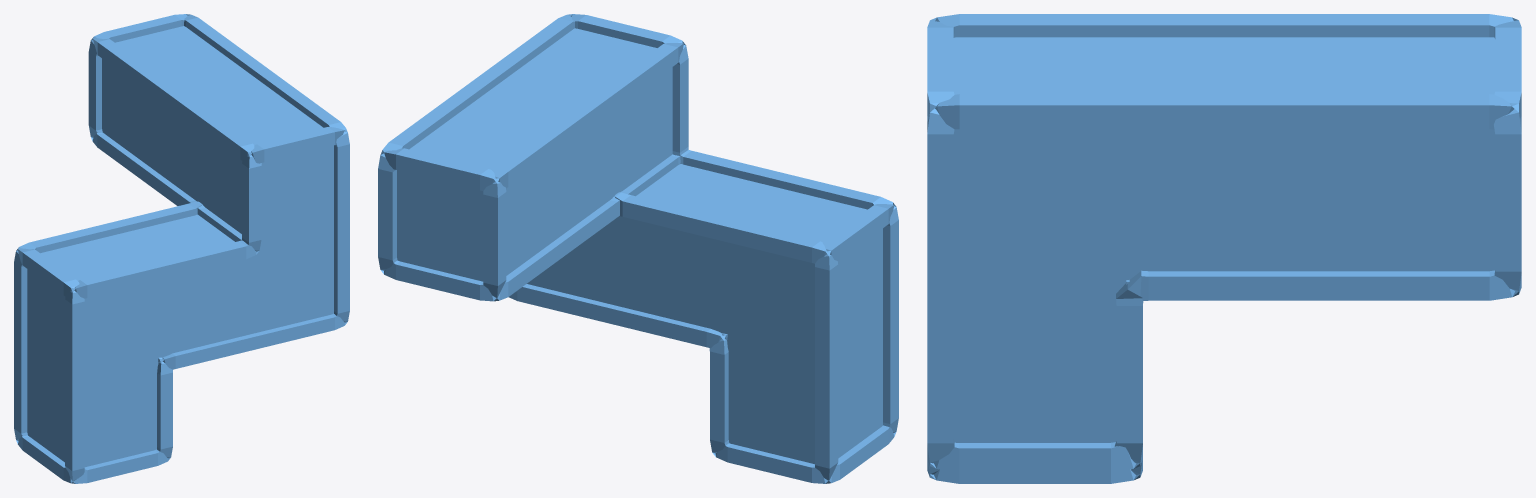
File: paramify-p.glb
3 renders of one model, left to right at view 1: azimuth 30°, elevation 25°; view 2: azimuth 150°, elevation 25°; view 3: azimuth 270°, elevation 25°, orthographic. The views are drawn at different scales.
Visible parts, largest first — view 1: ExportP; view 2: ExportP; view 3: ExportP.
Boxes of the visible parts, x1,y1,x2,y2 form: ExportP: (14,14,349,483); ExportP: (378,14,898,483); ExportP: (927,14,1521,483).
Size of the model in its own units: 6.35 by 6.28 by 6.28.
